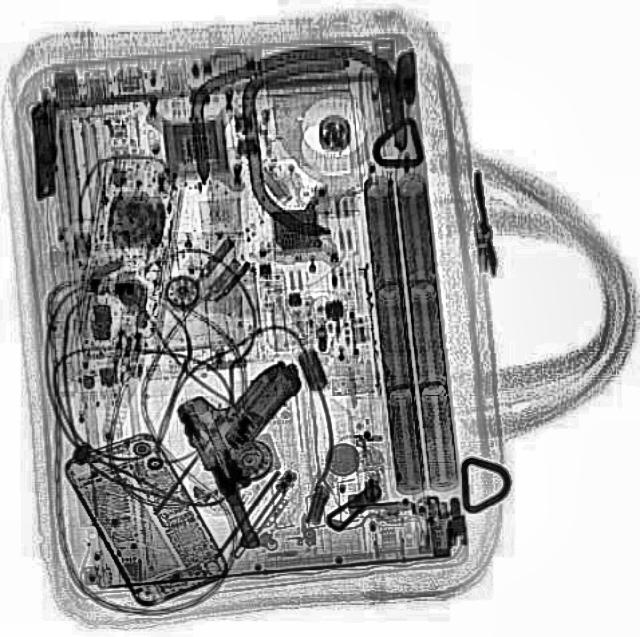Gun: (172, 361, 358, 553)
